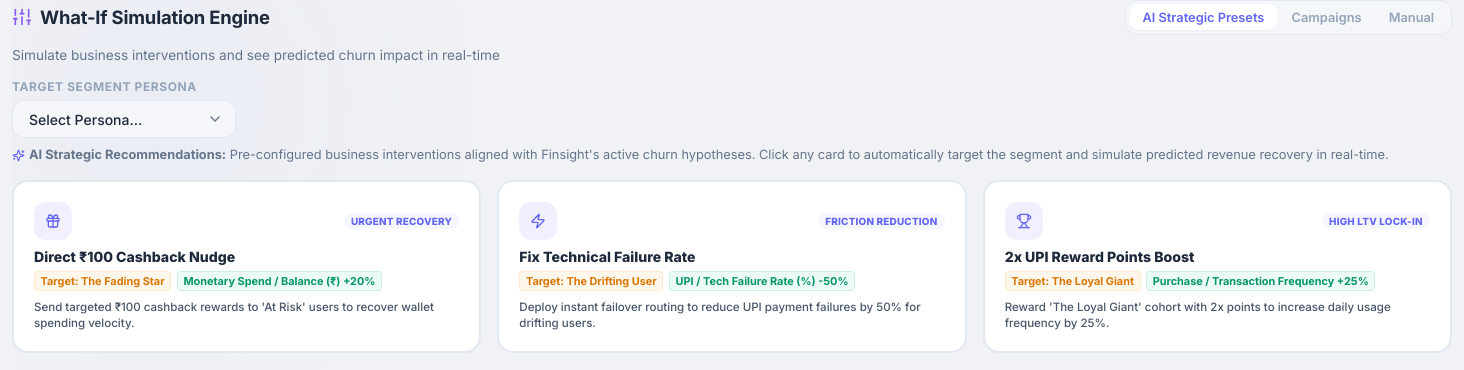
Scenario: WhatIfPanel › shows feature selector in Manual mode
The image size is (1464, 370).
Click the button "Manual": x=1411, y=17 [1375,4,1448,30]
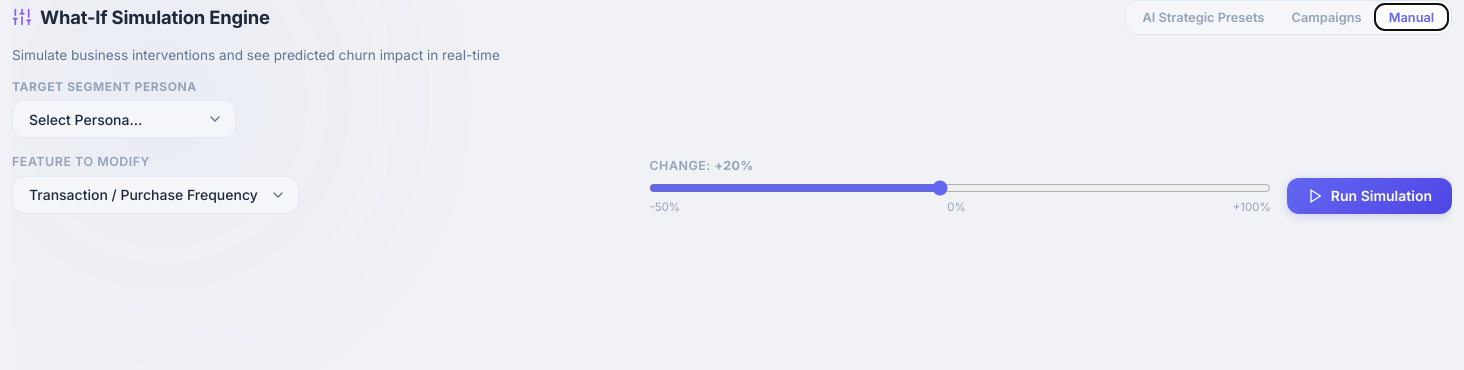
expect the text "Feature to Modify" is shown: met, box [12,154,150,169]
